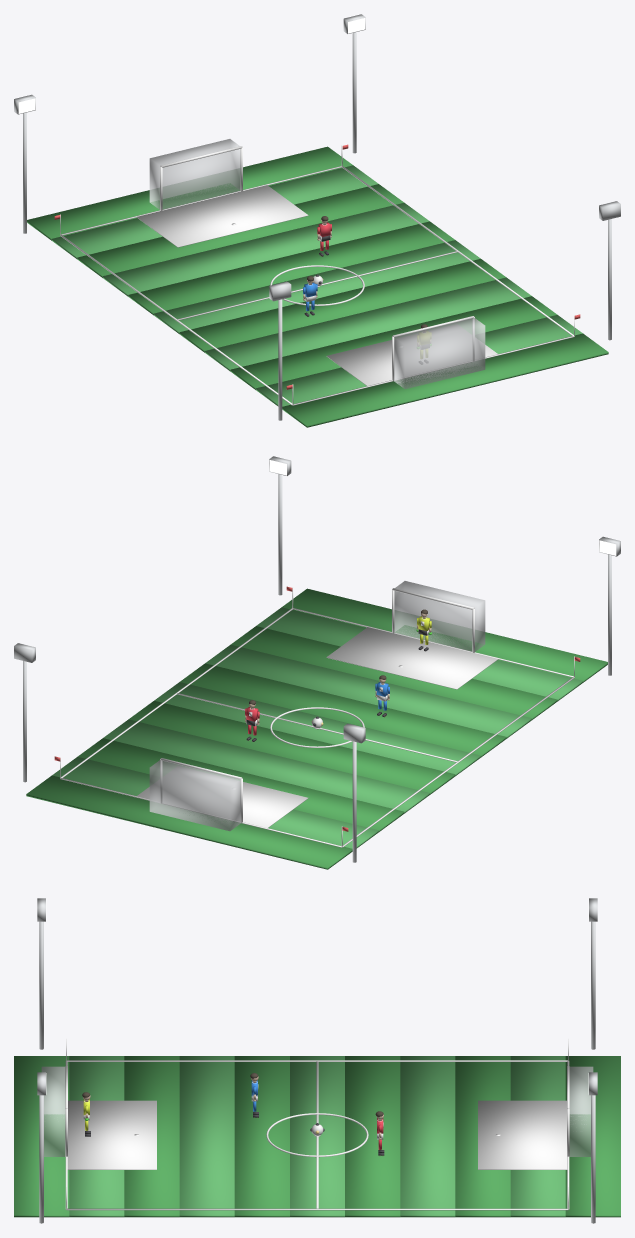
File: soccer_pack.glb
3 renders of one model, top to bottom at view 1: azimuth 30°, elevation 25°; view 2: azimuth 150°, elevation 25°; view 3: azimuth 270°, elevation 25°, orthographic. The views are drawn at different scales.
Visible parts, largest first — view 1: Soccer_Stadium_Pitch; view 2: Soccer_Stadium_Pitch; view 3: Soccer_Stadium_Pitch.
Part boxes in pixels (bbox=[...]): Soccer_Stadium_Pitch: bbox=[14, 14, 620, 427]; Soccer_Stadium_Pitch: bbox=[14, 456, 620, 869]; Soccer_Stadium_Pitch: bbox=[14, 898, 620, 1223].
Bounding box in the file's own units: 17.3 × 6.5 × 24.2.
